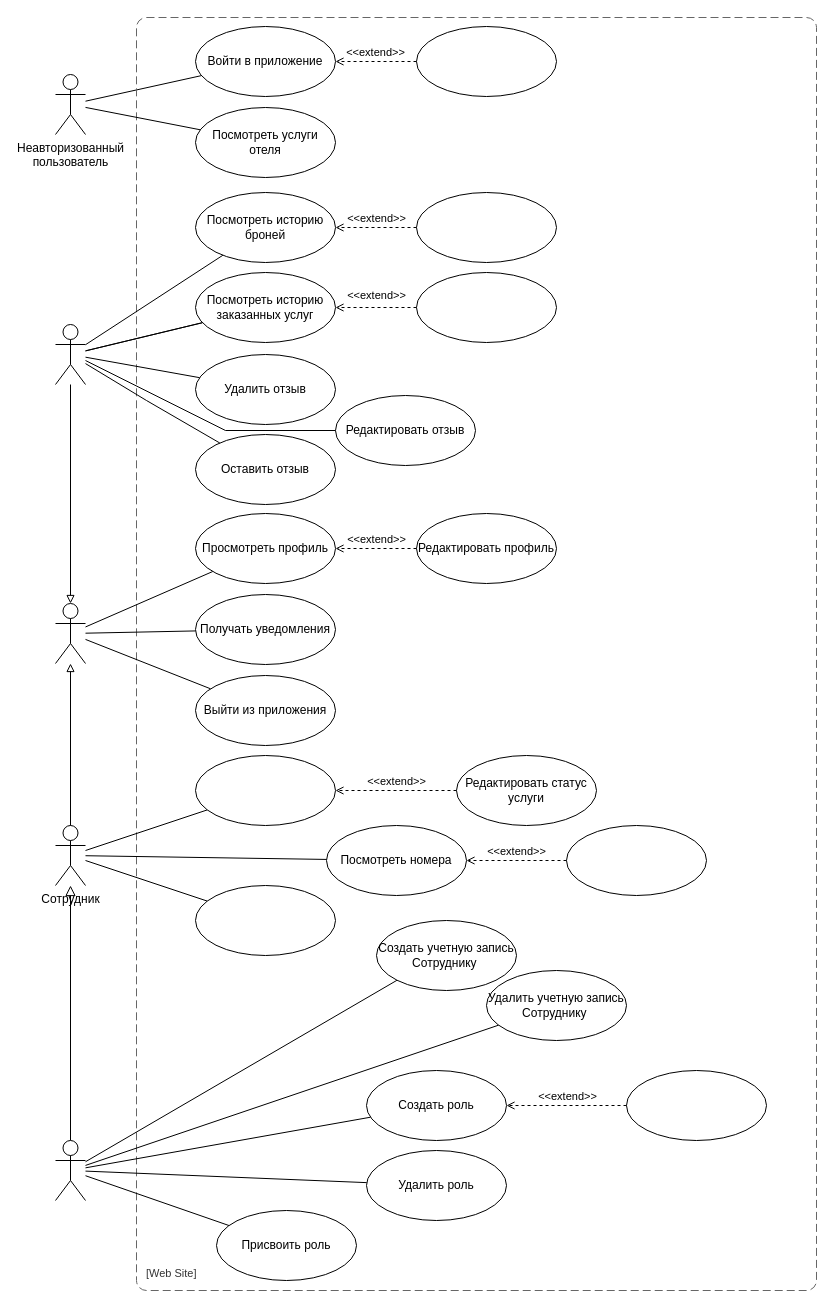
Some shapes in this 834 by 1308 pixel diagram are drawn without their labels. Here are the shapes that lost their labels. From the top down, the centre of each, then its label:
(x=486, y=61): Зарегистрироваться
(x=486, y=227): Забронировать номер
(x=486, y=307): Заказать услугу
(x=70, y=354): Гость
(x=70, y=633): Авторизованный пользователь
(x=265, y=790): Посмотреть заказанные гостями услуги
(x=636, y=860): Редактировать статус номера
(x=265, y=920): Отправлять уведомления
(x=696, y=1105): Редактировать роль
(x=70, y=1170): Администратор
